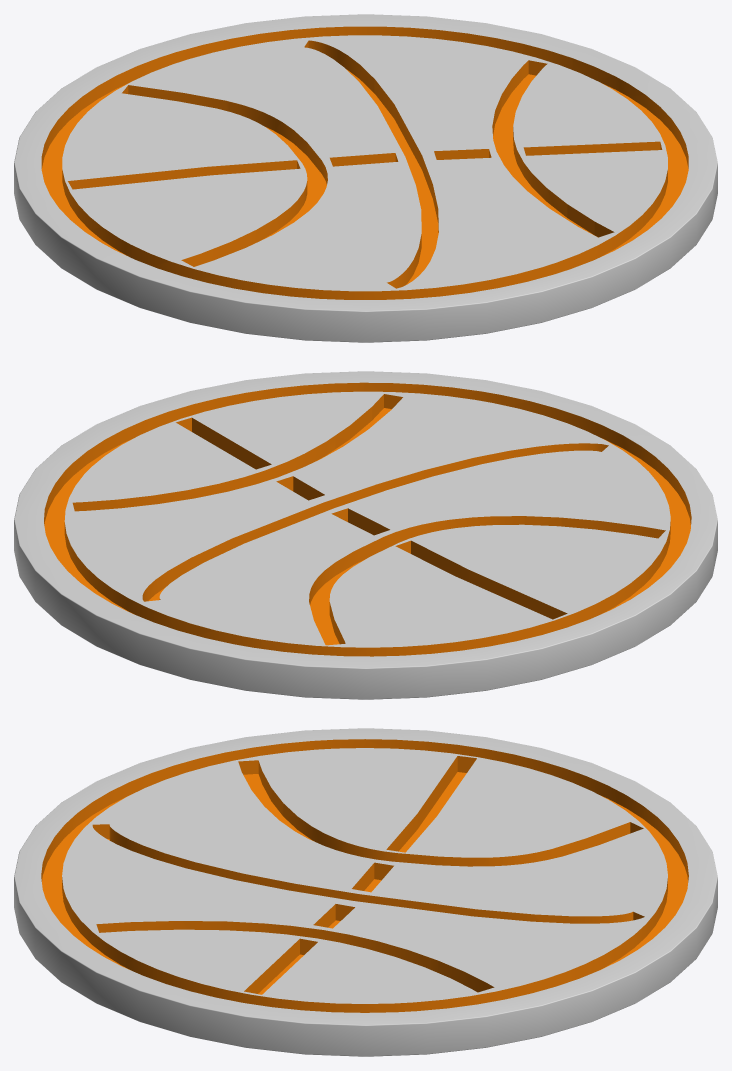
The model's file is BasketBall_Cut.fbx.
The picture shows the model from 3 angles, top to bottom: view 1: azimuth 30°, elevation 25°; view 2: azimuth 150°, elevation 25°; view 3: azimuth 270°, elevation 25°; orthographic projection.
Visible parts, largest first — view 1: Basketball_1, Basketball_2; view 2: Basketball_1, Basketball_2; view 3: Basketball_1, Basketball_2.
Part boxes in pixels (x1,y1,x2,y2): Basketball_1: (14,14,717,342); Basketball_2: (169,77,568,257); Basketball_1: (14,371,717,699); Basketball_2: (163,434,562,615); Basketball_1: (14,728,717,1056); Basketball_2: (166,794,565,971).
Bounding box in the file's own units: 817 × 40.54 × 817.
